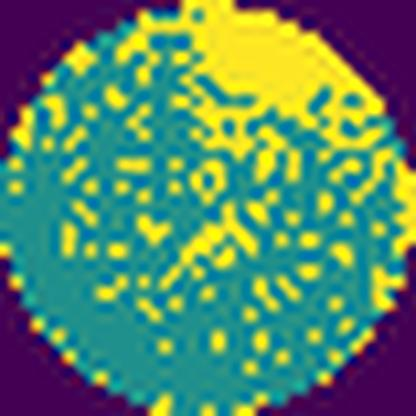Edge-Loc: (110, 0, 388, 147), (387, 162, 415, 258), (368, 263, 405, 324)
